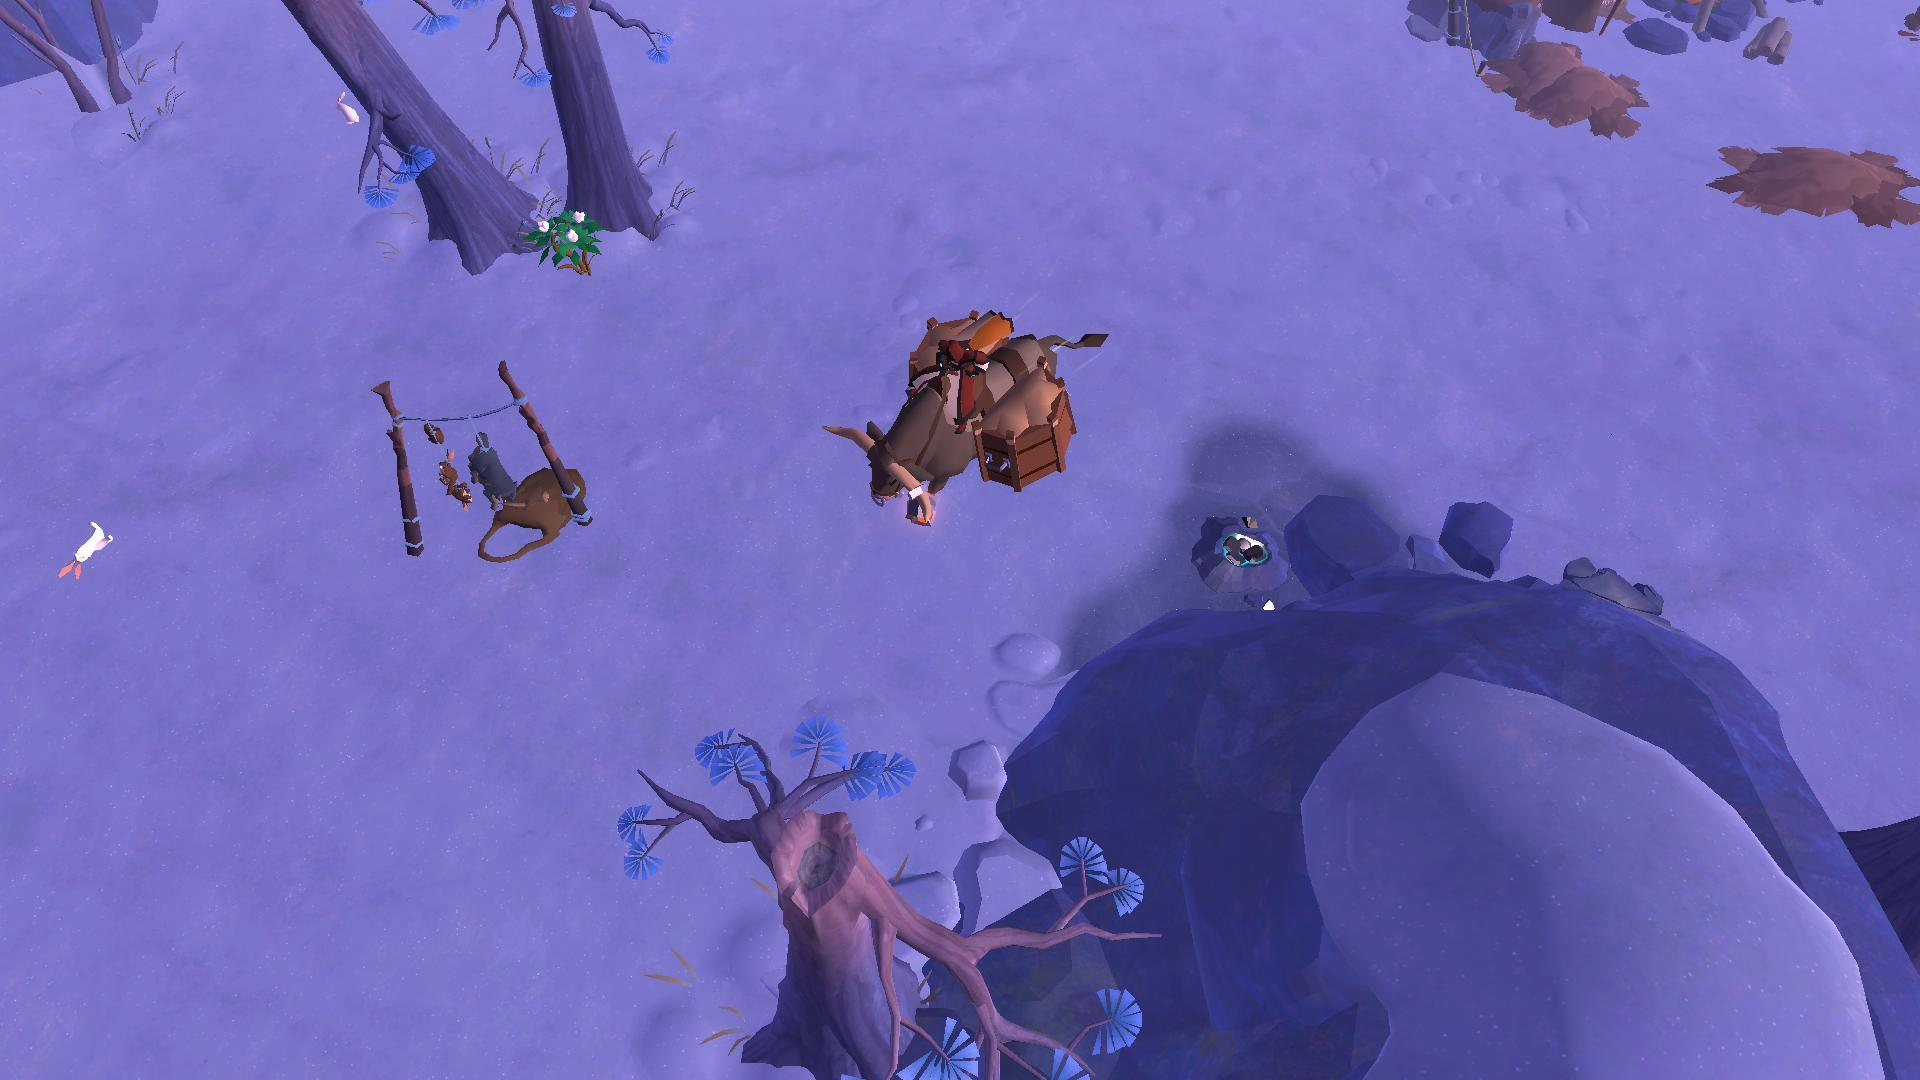fiber_t3: (531, 196, 611, 285)
